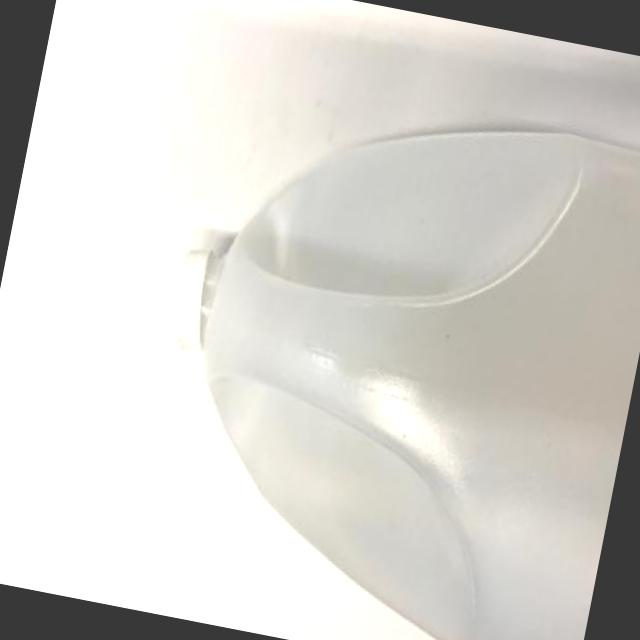Recycle: (115, 60, 640, 640)
